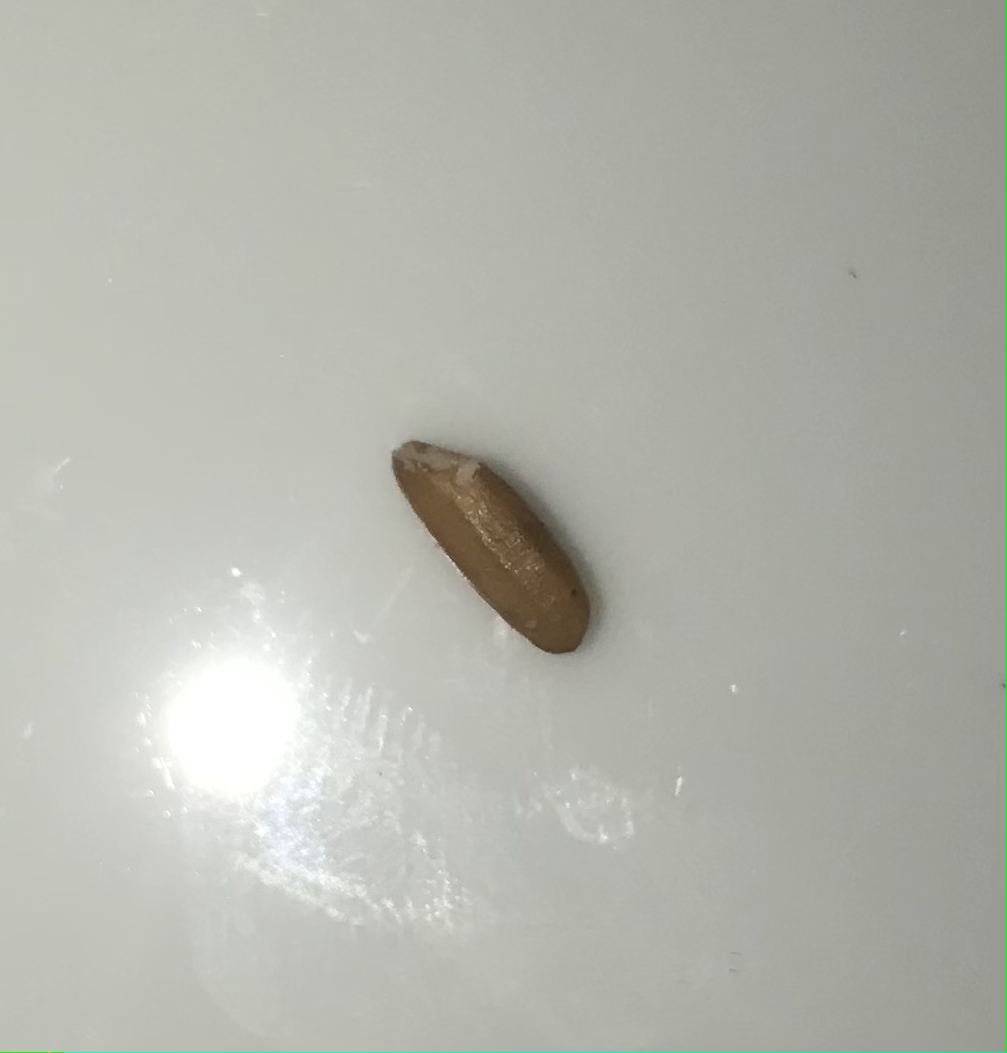Gao Lut Dien Bien: (372, 428, 606, 679)
